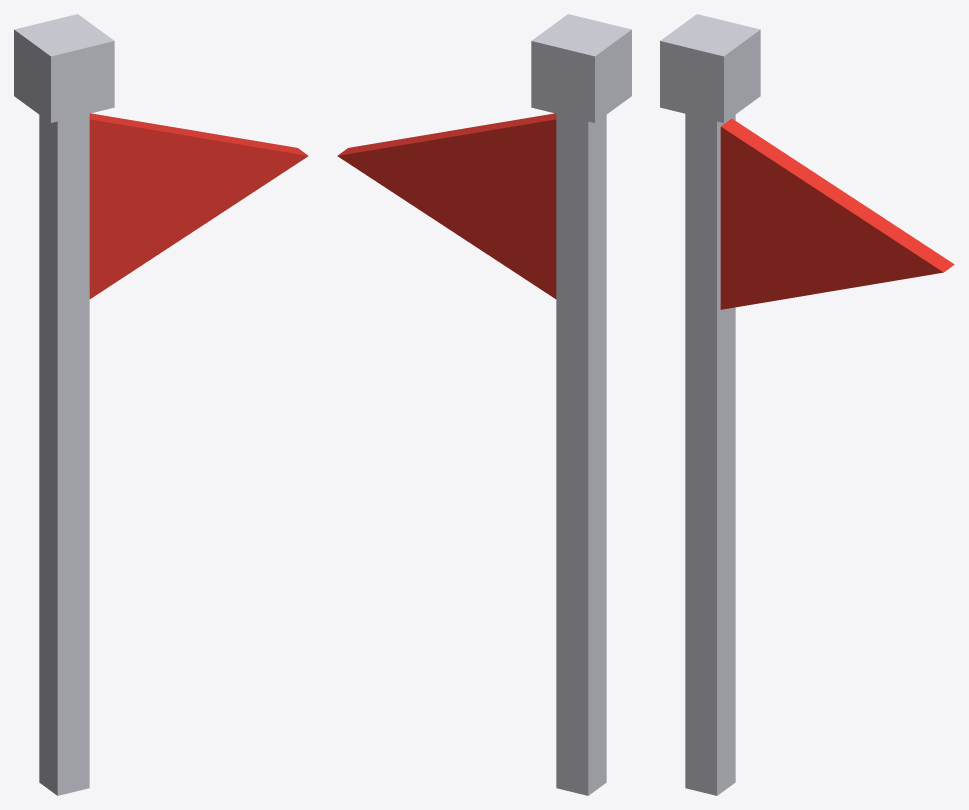
File: checkpoint.obj
3 views of the same model, side by side, from view 1: azimuth 30°, elevation 25°; view 2: azimuth 150°, elevation 25°; view 3: azimuth 330°, elevation 25° (orthographic).
Visible parts, largest first — view 1: checkpoint; view 2: checkpoint; view 3: checkpoint.
Boxes of the visible parts, x1,y1,x2,y2 form: checkpoint: (14,14,308,795); checkpoint: (337,14,631,795); checkpoint: (660,14,954,795).
Size of the model in its own units: 0.85 by 2.25 by 0.2.
Materials: 1 (1 with a texture image).
